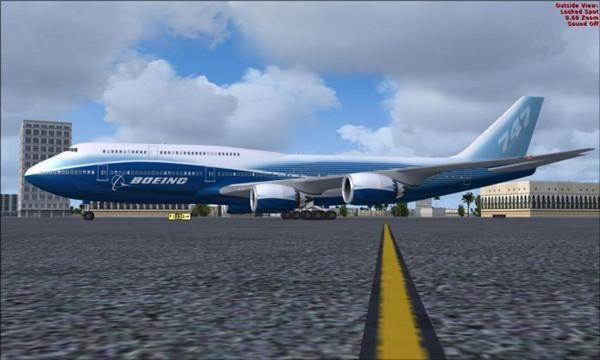airplane: (18, 89, 595, 213)
